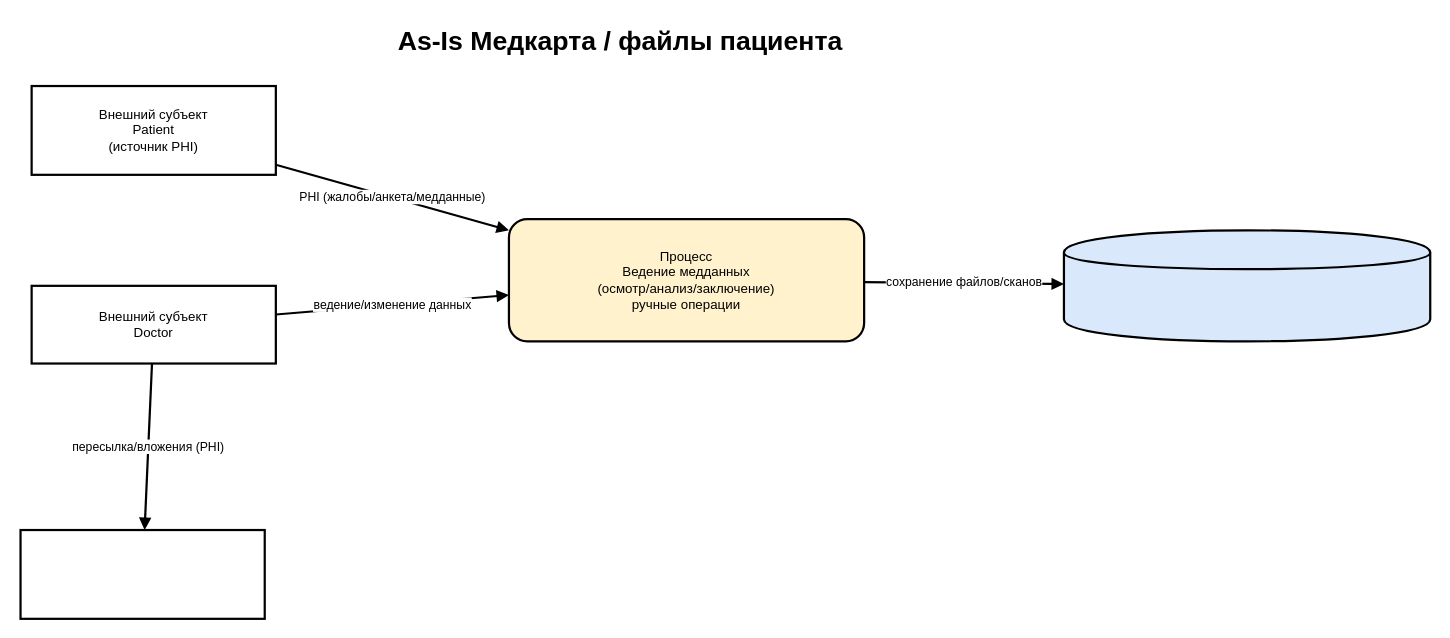
The diagram is 1450 pixels wide and 638 high, and some of its shapes have lost their labels. The centre of each missing label's shape, as x and y in pixels:
"Внешний субъект/система Exchange Mail Server" belongs at point 142,573.
"Хранилище данных Data file (сканы/документы) PHI + PII" belongs at point 1246,285.
